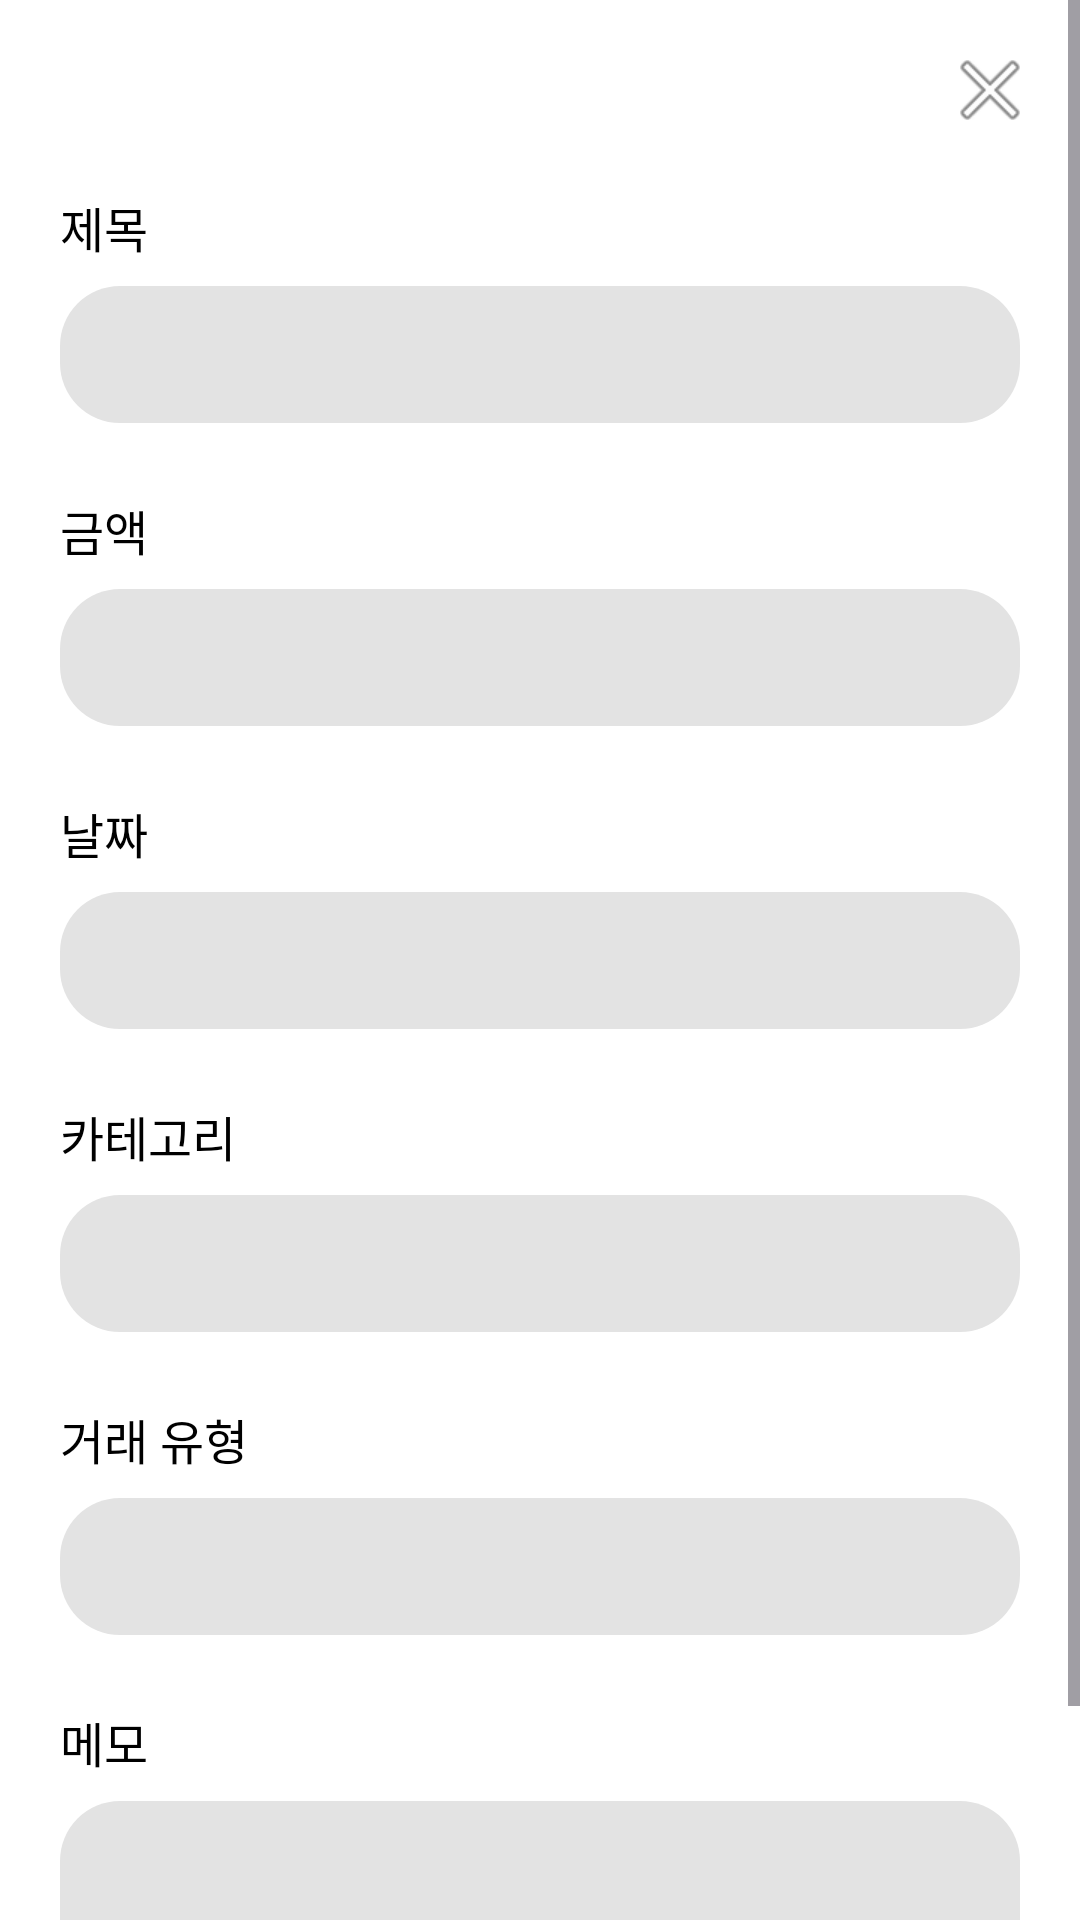

Icon click points for this 1080×1920 phone screenshot, format point (x, y):
Close: point (990, 90)
